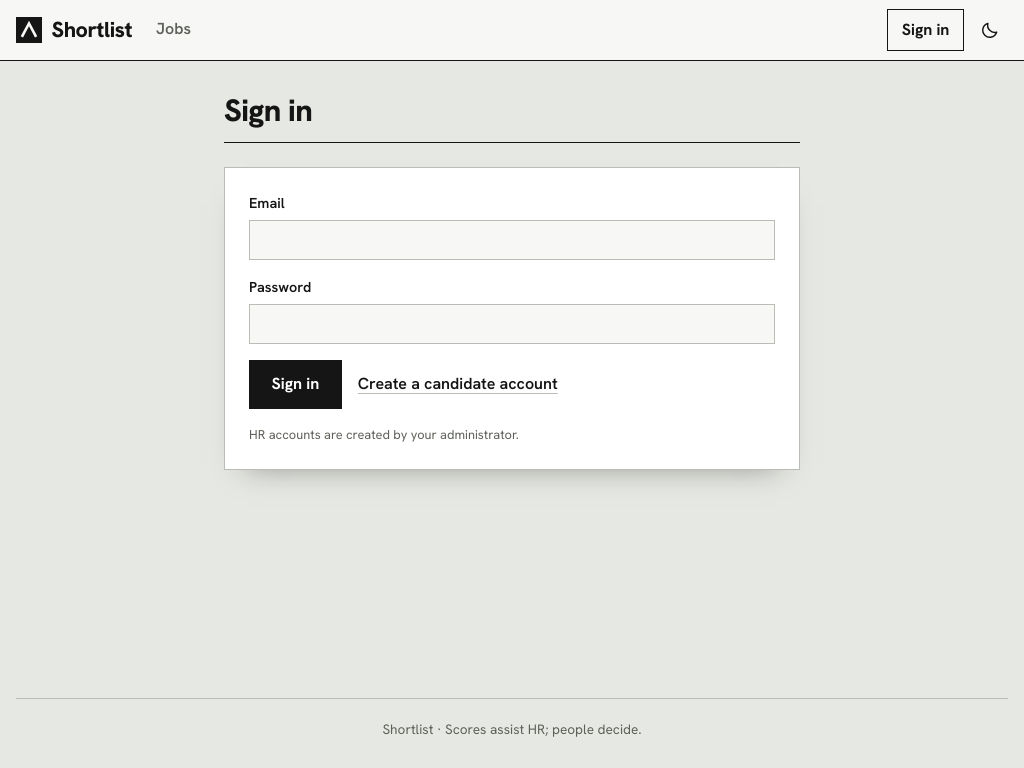
Scenario: sign in and sign up › shows why sign-in failed
This screenshot has width=1024, height=768.
Click the button "Sign in". click: (295, 384)
box: [249, 360, 342, 409]
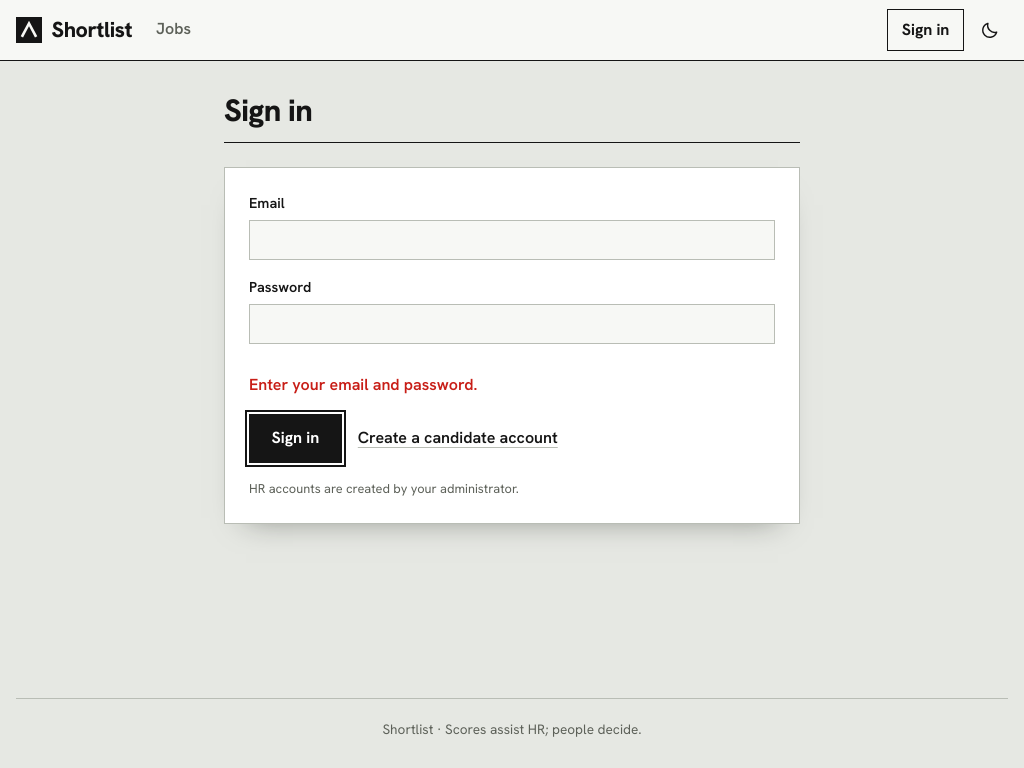
Check: the message reads "Enter your email and password.", box [249, 374, 477, 395]
Type "x@example.com" into the field labelled "Email". click: (512, 240)
box: [249, 220, 775, 260]
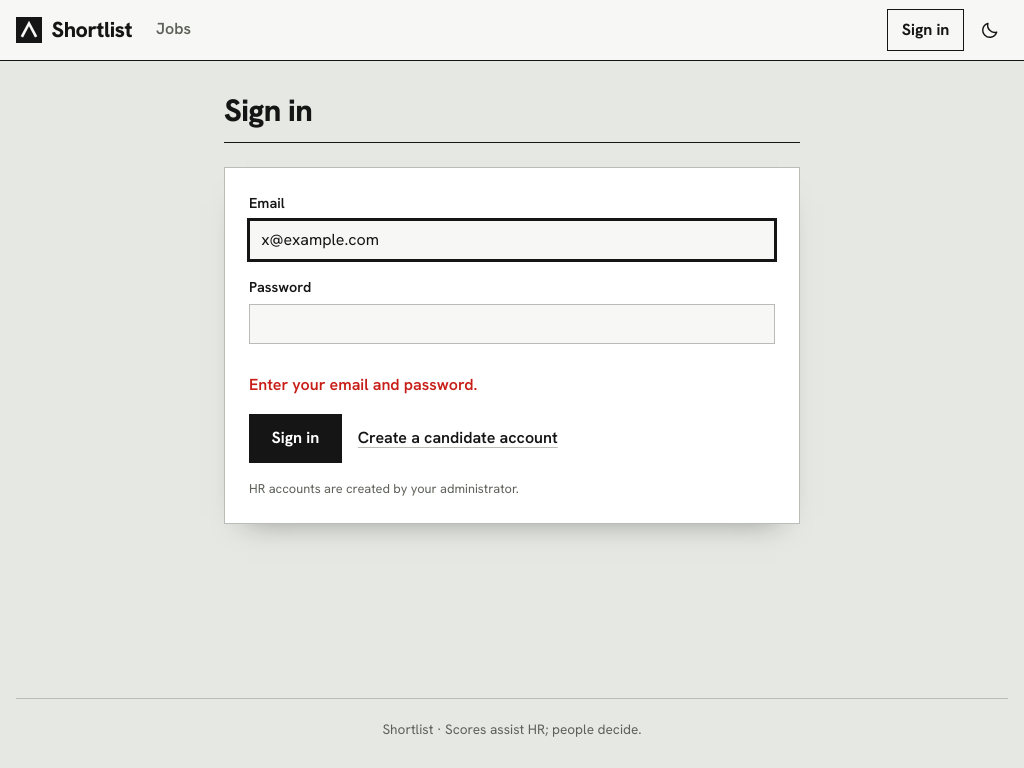
Type "wrong" into the password field labelled "Password". click: (512, 324)
box: [249, 304, 775, 344]
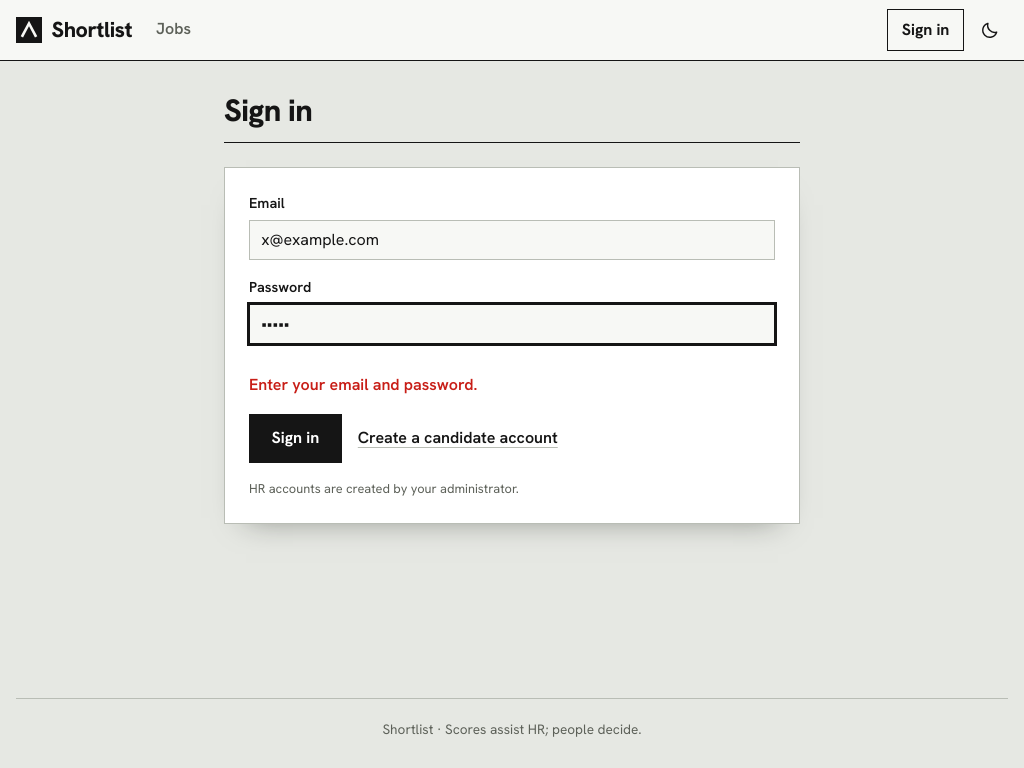
Click the button "Sign in". click: (295, 439)
box: [249, 414, 342, 463]
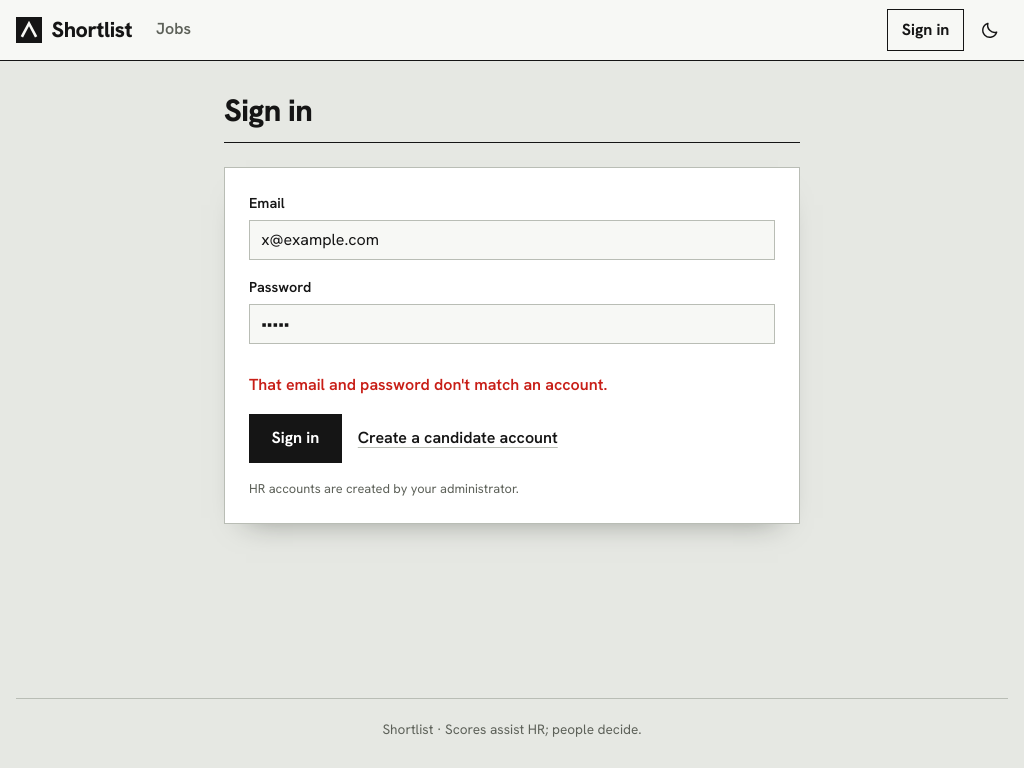
Check: the message shows "don't match", box [249, 374, 607, 395]
